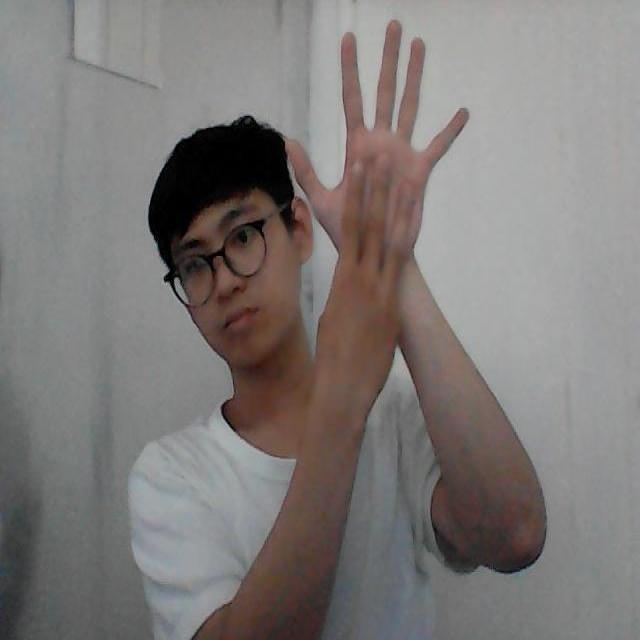M: (283, 13, 473, 295)
